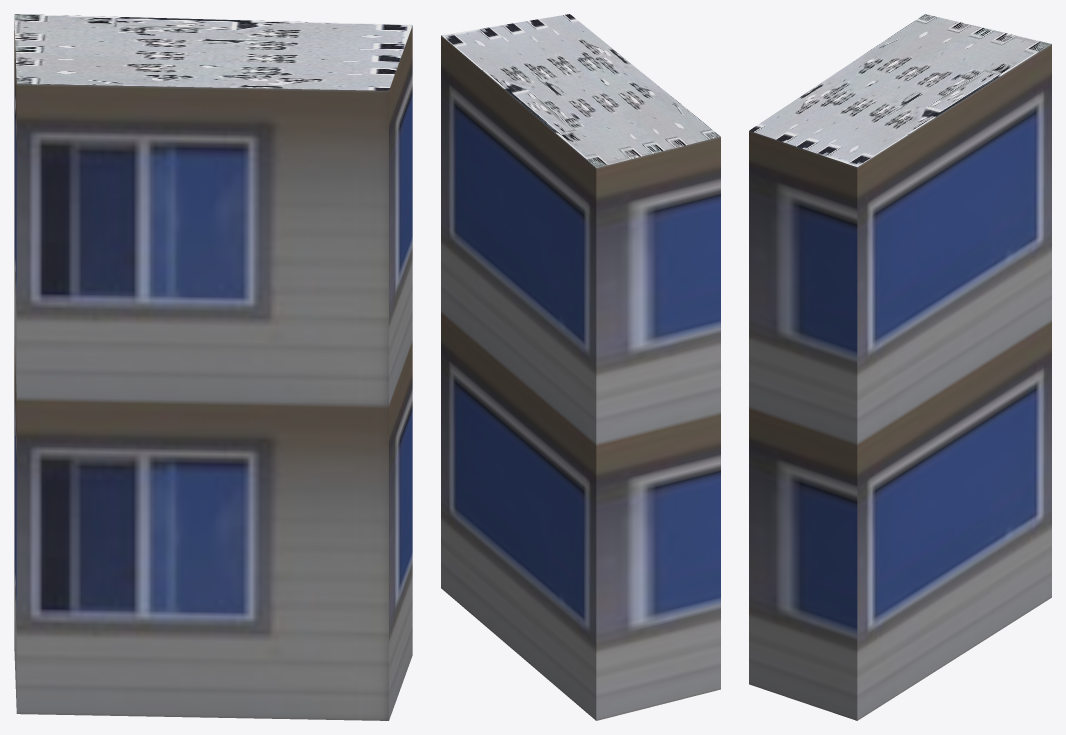
The model's file is ResTex__981.fbx.
3 views of the same model, side by side, from view 1: azimuth 30°, elevation 25°; view 2: azimuth 150°, elevation 25°; view 3: azimuth 270°, elevation 25° (orthographic). The views are drawn at different scales.
Visible parts, largest first — view 1: CityEngineMaterial_23_m, CityEngineMaterial_2_m; view 2: CityEngineMaterial_23_m, CityEngineMaterial_2_m; view 3: CityEngineMaterial_23_m, CityEngineMaterial_2_m.
Part boxes in pixels (x1,y1,x2,y2): CityEngineMaterial_23_m: (14,21,412,720); CityEngineMaterial_2_m: (14,14,412,90); CityEngineMaterial_23_m: (441,35,720,720); CityEngineMaterial_2_m: (441,14,720,167); CityEngineMaterial_23_m: (749,44,1051,720); CityEngineMaterial_2_m: (749,14,1051,166).
Size of the model in its own units: 3.56 by 6 by 2.97.
2 materials, 2 textured.
